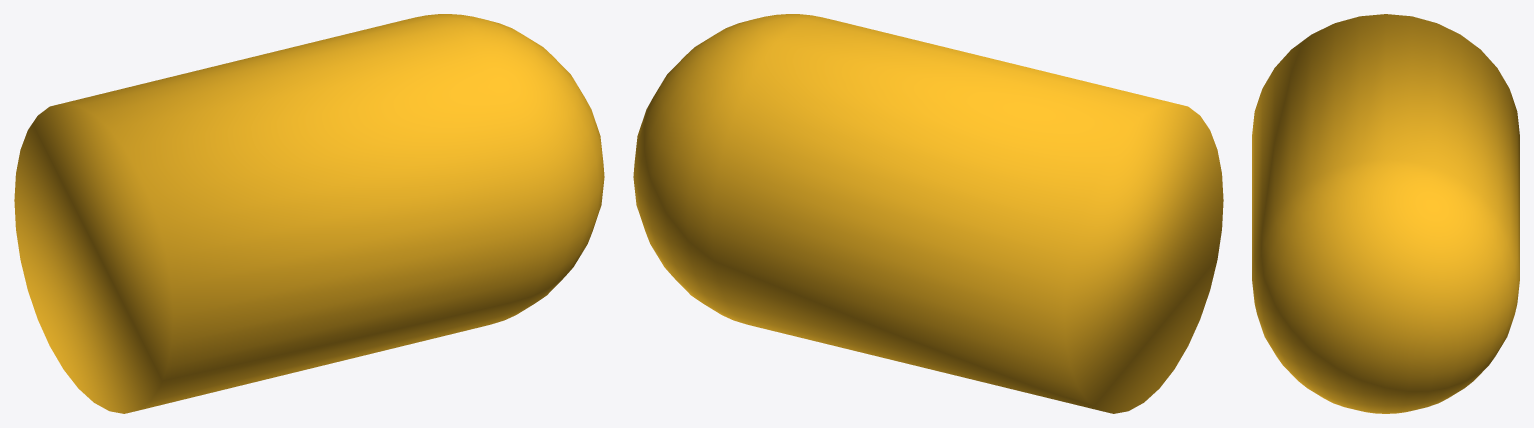
Rendered from bullet.glb.
3 views of the same model, side by side, from view 1: azimuth 30°, elevation 25°; view 2: azimuth 150°, elevation 25°; view 3: azimuth 270°, elevation 25° (orthographic). The views are drawn at different scales.
Parts seen in each view (by area): view 1: Sphere; view 2: Sphere; view 3: Sphere.
Boxes of the visible parts, x1,y1,x2,y2 form: Sphere: [14, 14, 604, 413]; Sphere: [633, 14, 1223, 413]; Sphere: [1252, 14, 1519, 413].
Size of the model in its own units: 0.8894 by 0.5 by 0.5.
